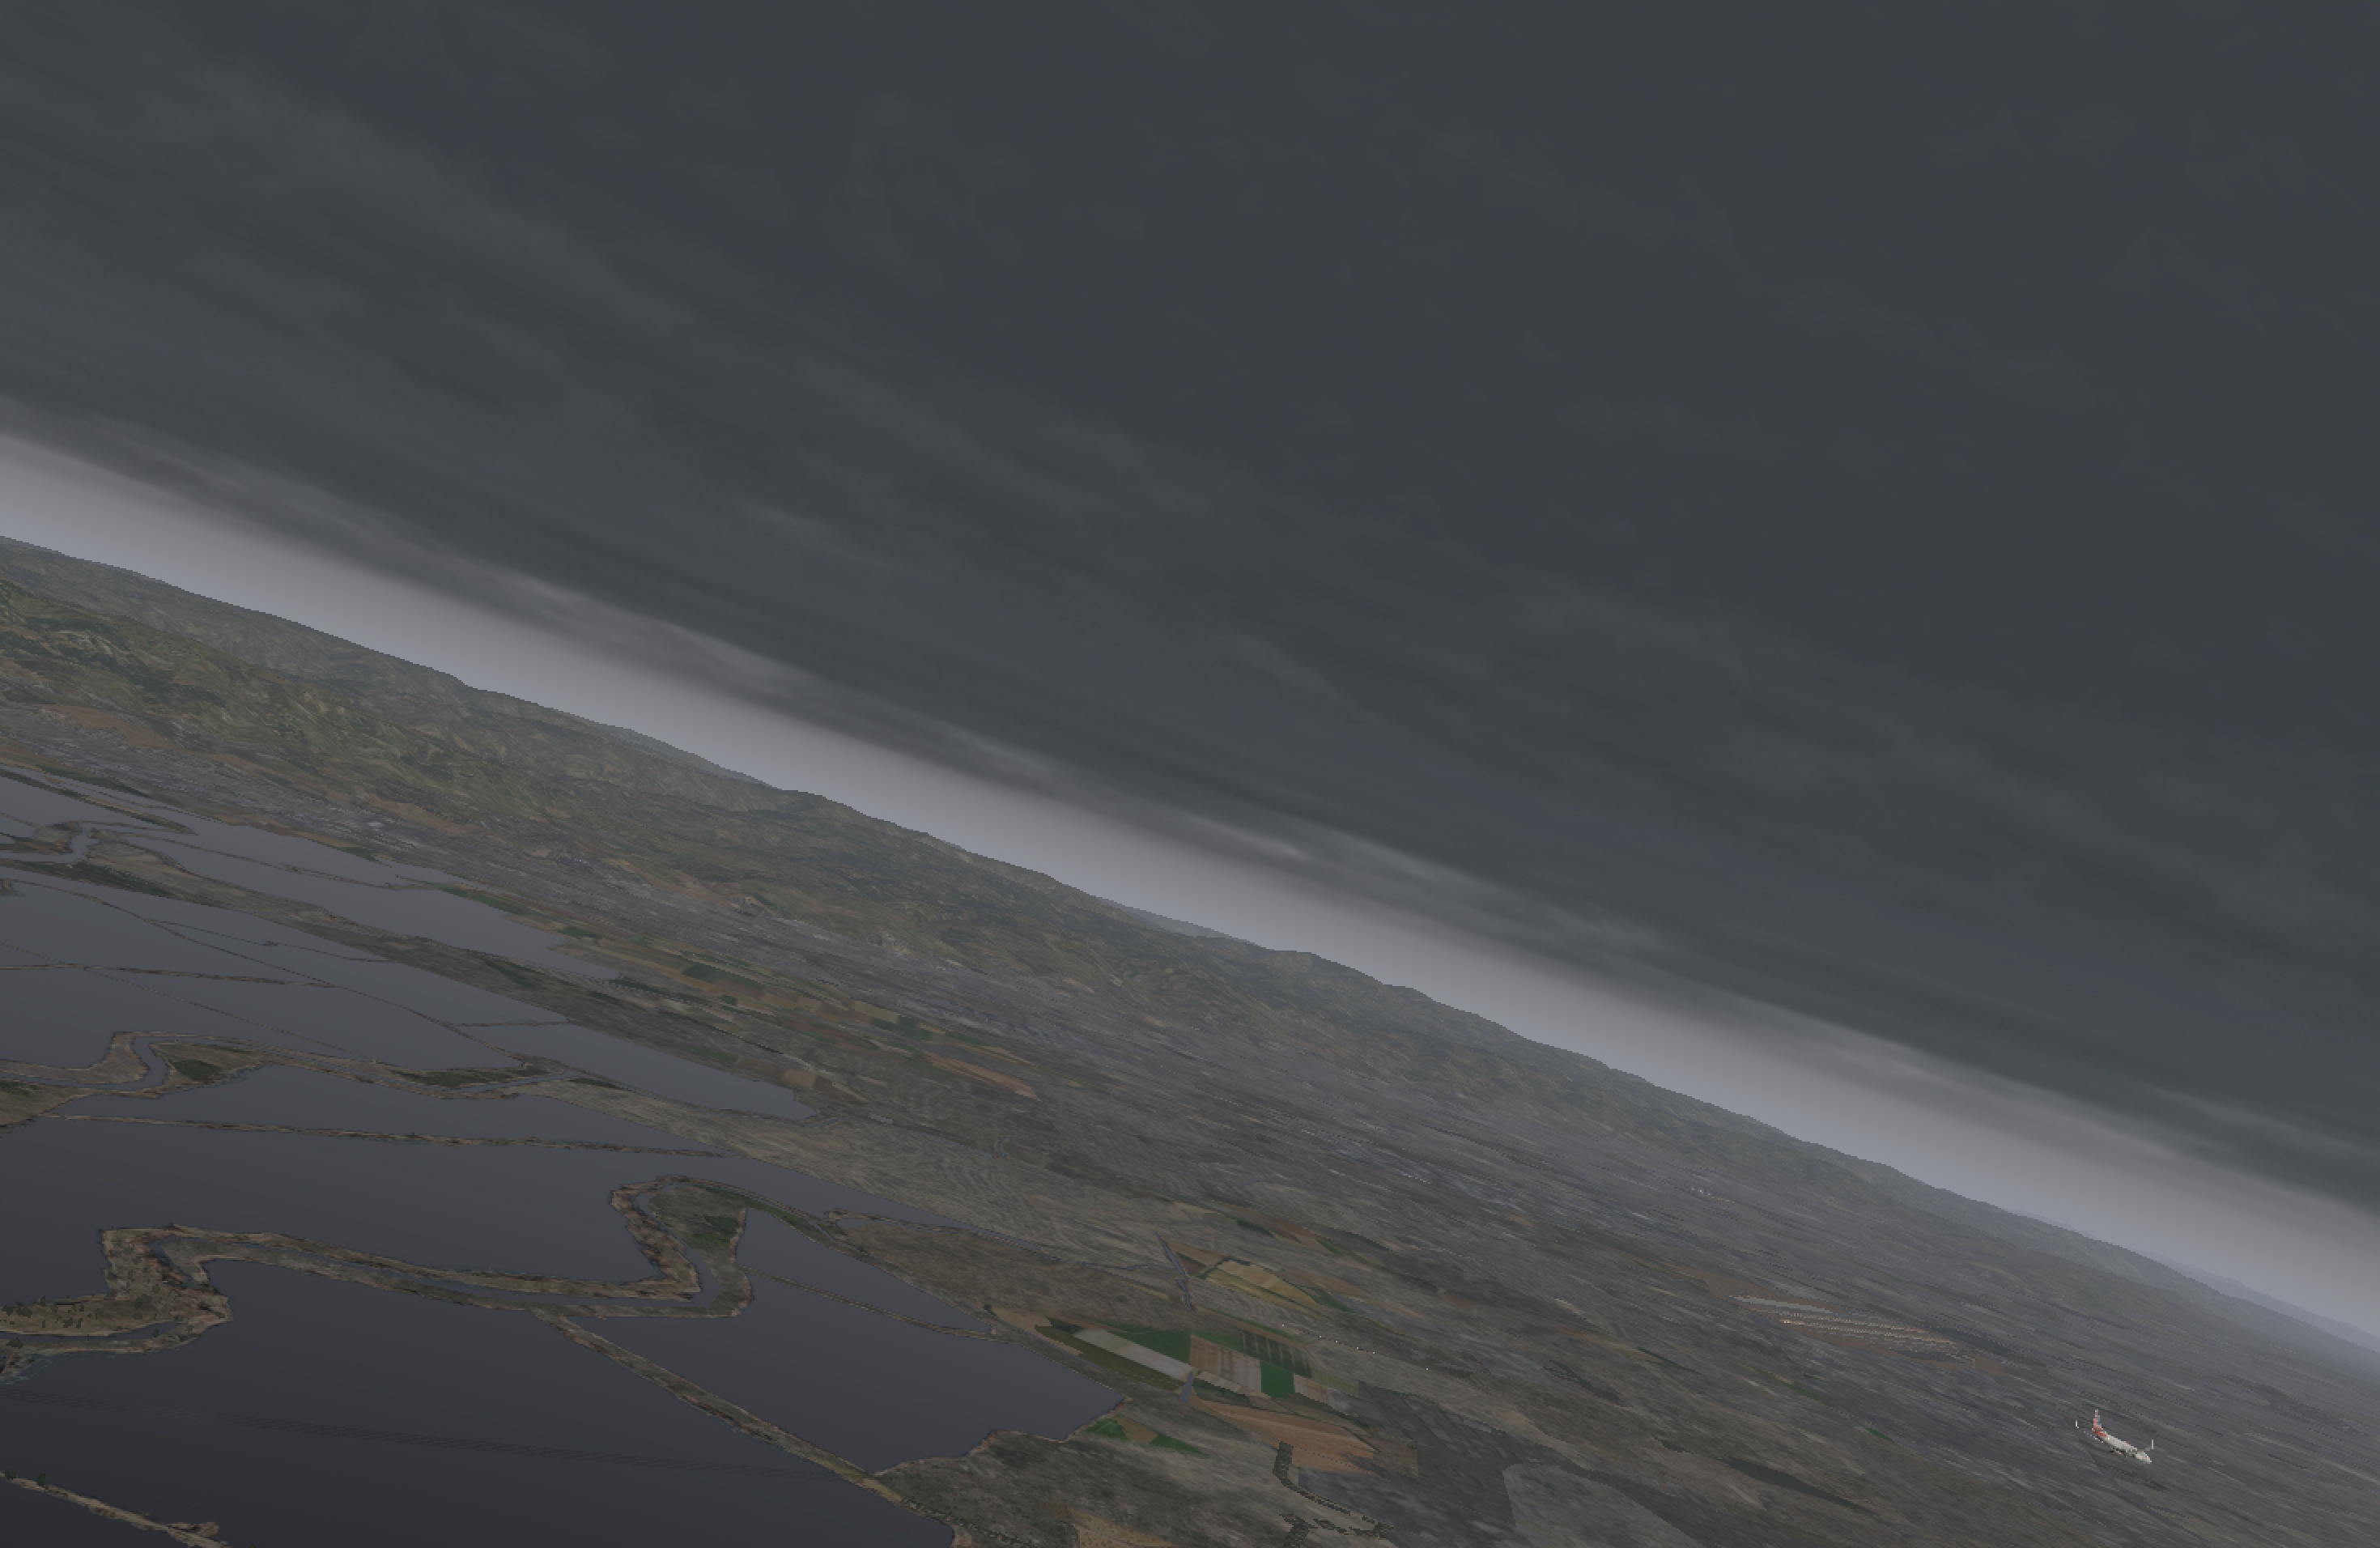aircraft: (2078, 1432, 2165, 1465)
